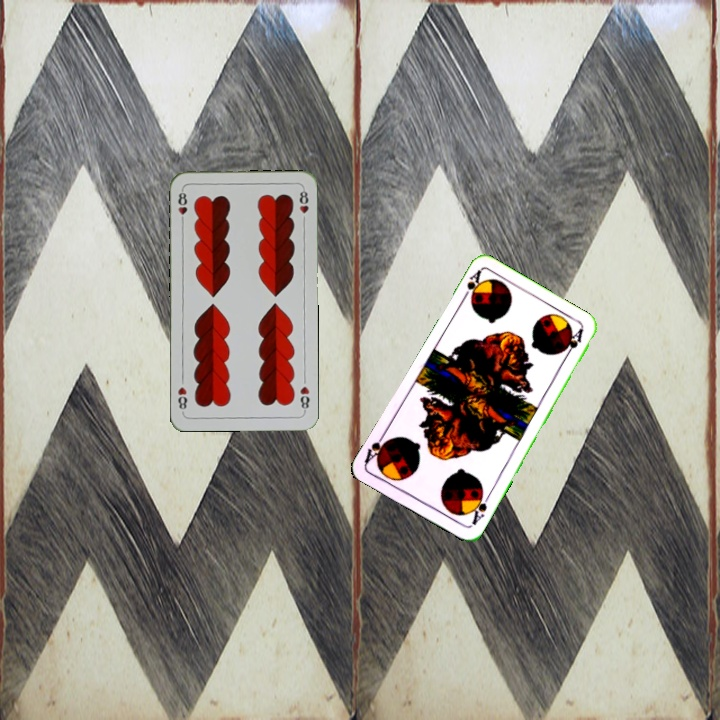H8: (174, 186, 189, 226), (296, 382, 312, 414)
SA: (466, 488, 493, 528), (458, 266, 485, 304)
